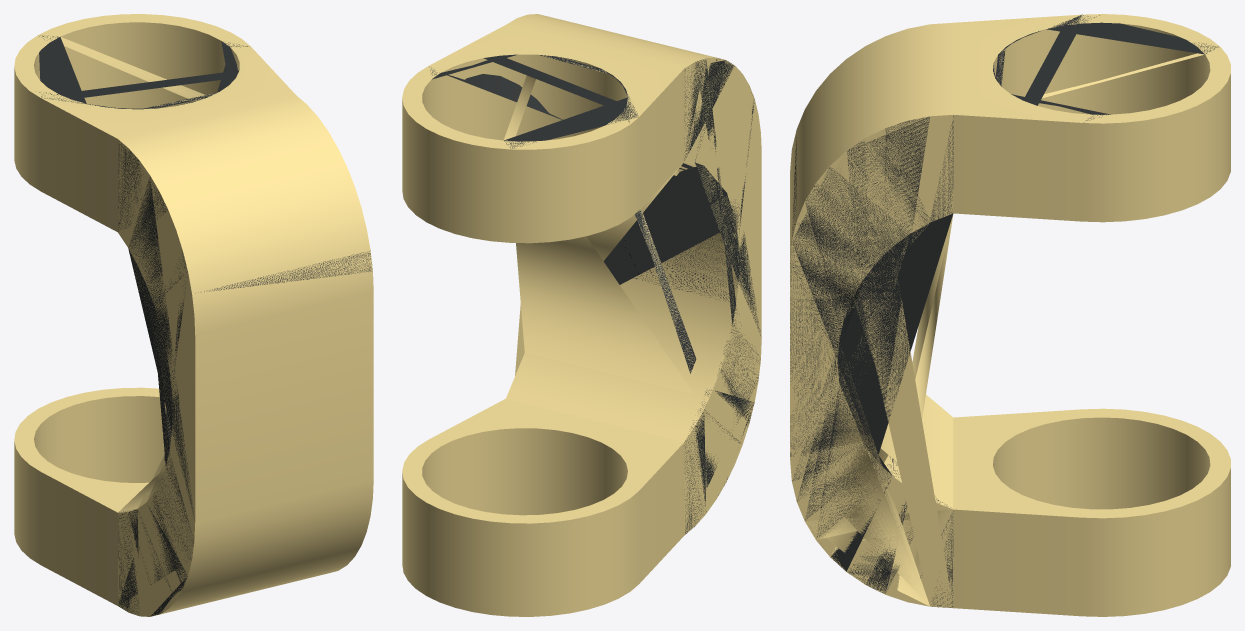
File: rarm_link6.dae
The picture shows the model from 3 angles, left to right: view 1: azimuth 30°, elevation 25°; view 2: azimuth 150°, elevation 25°; view 3: azimuth 270°, elevation 25°; orthographic projection. The views are drawn at different scales.
Parts seen in each view (by area): view 1: node0, node1, node2, node3; view 2: node0, node2, node1, node3; view 3: node0, node1, node2, node3.
Part boxes in pixels (x1=…): node0: x1=14, y1=14, x2=373, y2=616; node1: x1=38, y1=35, x2=372, y2=615; node2: x1=60, y1=37, x2=373, y2=614; node3: x1=119, y1=96, x2=372, y2=312; node0: x1=402, y1=14, x2=761, y2=616; node2: x1=503, y1=55, x2=761, y2=530; node1: x1=429, y1=54, x2=761, y2=534; node3: x1=506, y1=14, x2=713, y2=67; node0: x1=790, y1=14, x2=1230, y2=616; node1: x1=790, y1=14, x2=1218, y2=607; node2: x1=790, y1=49, x2=1204, y2=607; node3: x1=791, y1=23, x2=952, y2=204.
Size of the model in its own units: 0.0238 by 0.05 by 0.0405.
